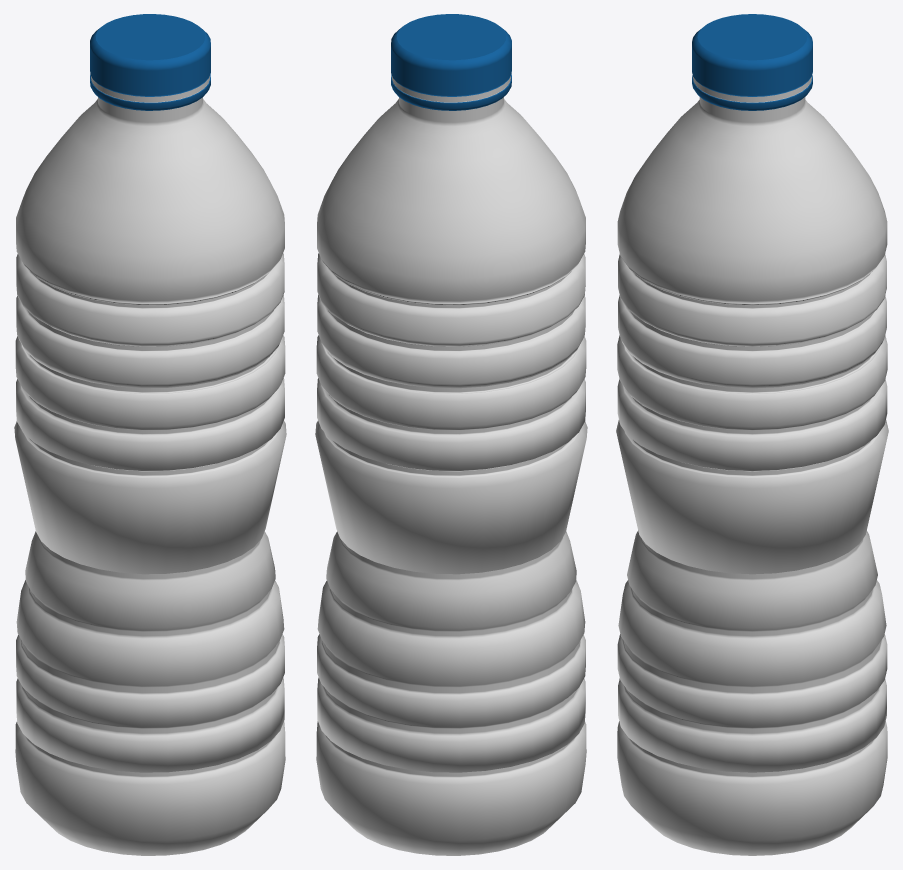
Rendered from plastic_bottle.dae.
The picture shows the model from 3 angles, left to right: view 1: azimuth 30°, elevation 25°; view 2: azimuth 150°, elevation 25°; view 3: azimuth 270°, elevation 25°; orthographic projection.
Visible parts, largest first — view 1: Plastic bottle; view 2: Plastic bottle; view 3: Plastic bottle.
Part boxes in pixels (left/top/right/bottom): Plastic bottle: left=14, top=14, right=286, bottom=855; Plastic bottle: left=315, top=14, right=587, bottom=855; Plastic bottle: left=616, top=14, right=888, bottom=855.
Bounding box in the file's own units: 0.0735 × 0.0735 × 0.23.
